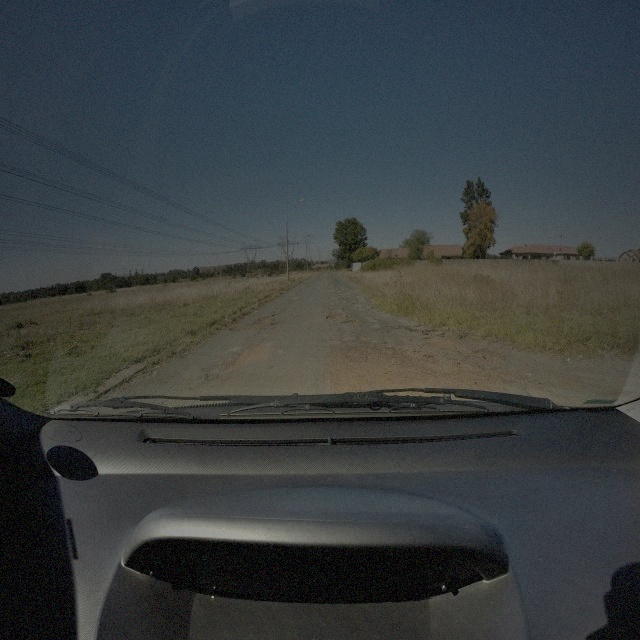pothole: (245, 311, 274, 333), (324, 310, 345, 319), (357, 331, 371, 344), (344, 318, 362, 326)
